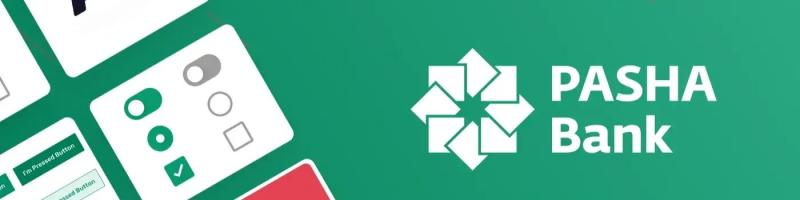Pasha Bank: (408, 47, 536, 173)
